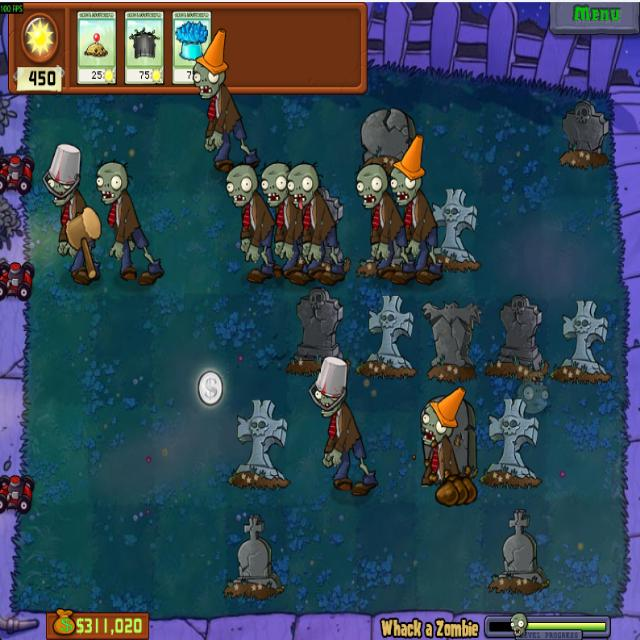buckethead: (41, 143, 83, 207), (308, 355, 349, 419)
conehead: (388, 133, 427, 207), (421, 386, 466, 446), (194, 27, 228, 98)
grave: (283, 287, 348, 379), (226, 398, 289, 489), (485, 292, 549, 379), (482, 396, 540, 492), (419, 297, 483, 383), (224, 513, 284, 602), (356, 293, 416, 381), (489, 507, 548, 596), (552, 296, 610, 384), (424, 188, 480, 272), (295, 191, 344, 278), (360, 107, 418, 177), (556, 98, 610, 172)
gravebuster: (124, 10, 164, 84)
zombie: (352, 162, 388, 210), (286, 160, 320, 206), (96, 158, 128, 206), (224, 164, 258, 206), (260, 161, 292, 205)
